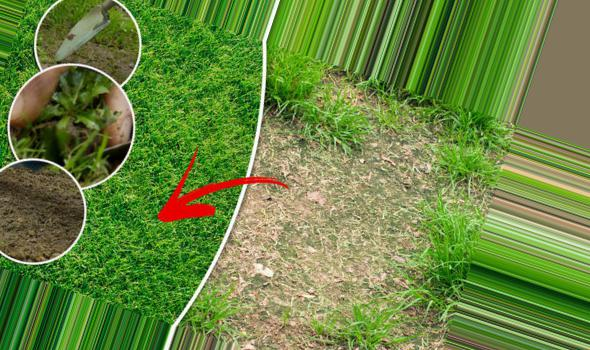patch: (270, 163, 375, 319), (370, 171, 424, 252), (233, 248, 271, 319)
